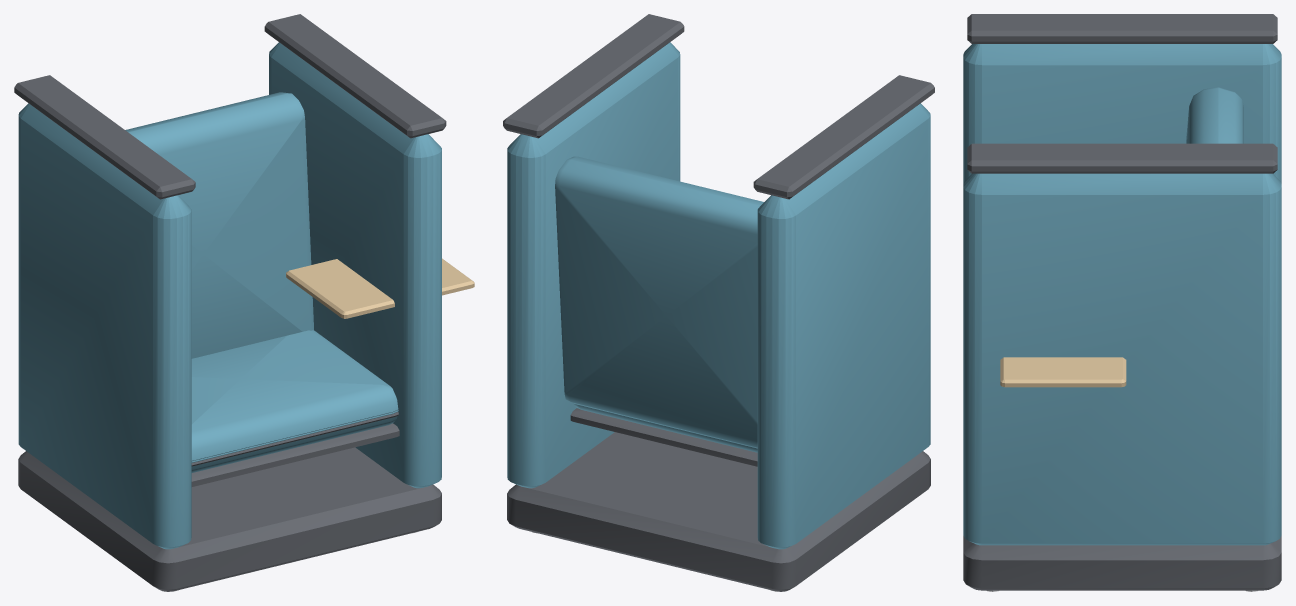
Rendered from university-lecture-hall-and-campus-soft-seating-pod-27c92575__34763.glb.
3 renders of one model, left to right at view 1: azimuth 30°, elevation 25°; view 2: azimuth 150°, elevation 25°; view 3: azimuth 270°, elevation 25°, orthographic. The views are drawn at different scales.
Visible parts, largest first — view 1: soft-seating-pod; view 2: soft-seating-pod; view 3: soft-seating-pod.
Part boxes in pixels (x1=…): soft-seating-pod: x1=14, y1=14, x2=474, y2=591; soft-seating-pod: x1=503, y1=14, x2=934, y2=591; soft-seating-pod: x1=963, y1=14, x2=1281, y2=591.
Size of the model in its own units: 1.11 by 1.31 by 0.8601.
